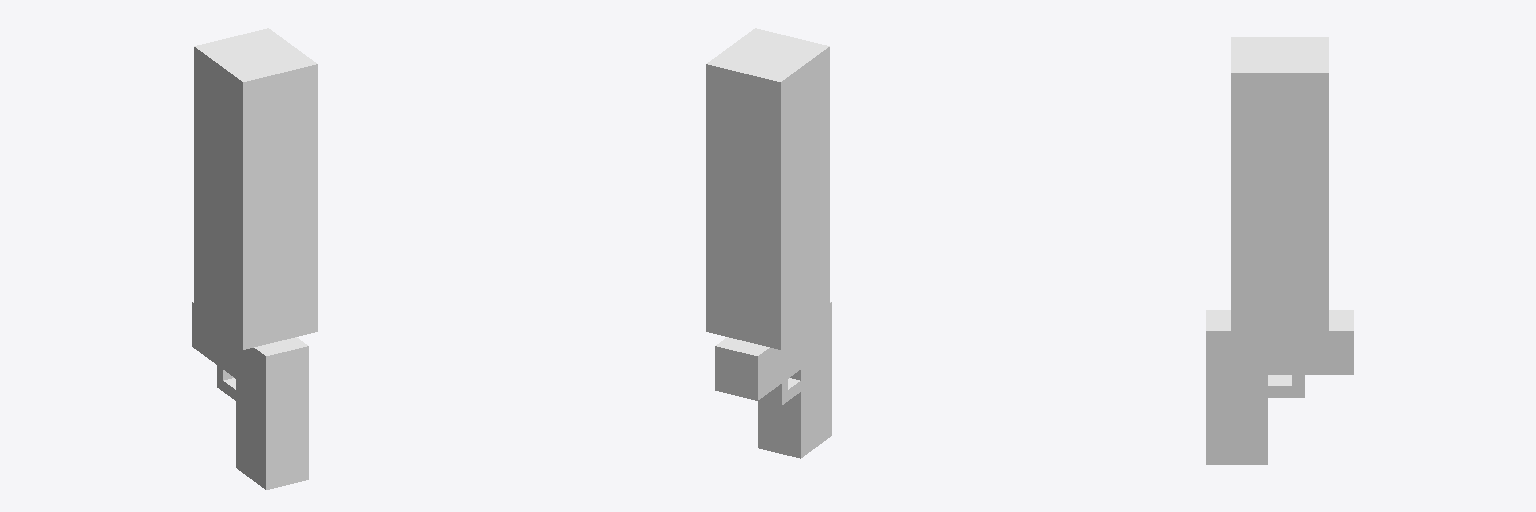
The model's file is Jason_Brazo.obj.
3 renders of one model, left to right at view 1: azimuth 30°, elevation 25°; view 2: azimuth 150°, elevation 25°; view 3: azimuth 270°, elevation 25°, orthographic.
Parts seen in each view (by area): view 1: Jason_Brazo; view 2: Jason_Brazo; view 3: Jason_Brazo.
Boxes of the visible parts, <box> form: Jason_Brazo: <box>192,28,317,489</box>; Jason_Brazo: <box>706,28,831,458</box>; Jason_Brazo: <box>1206,37,1353,464</box>.
Bounding box in the file's own units: 0.7 × 3.6 × 1.2.